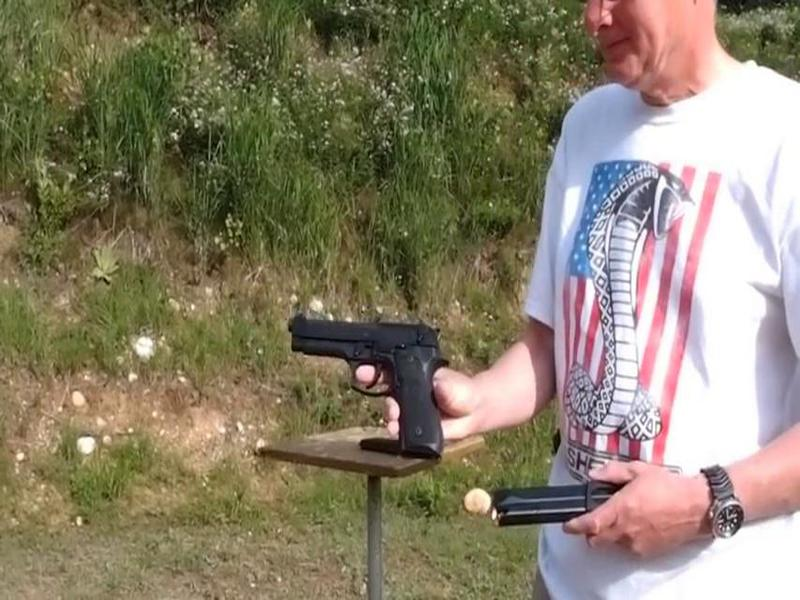Pistola: (279, 300, 459, 464)
